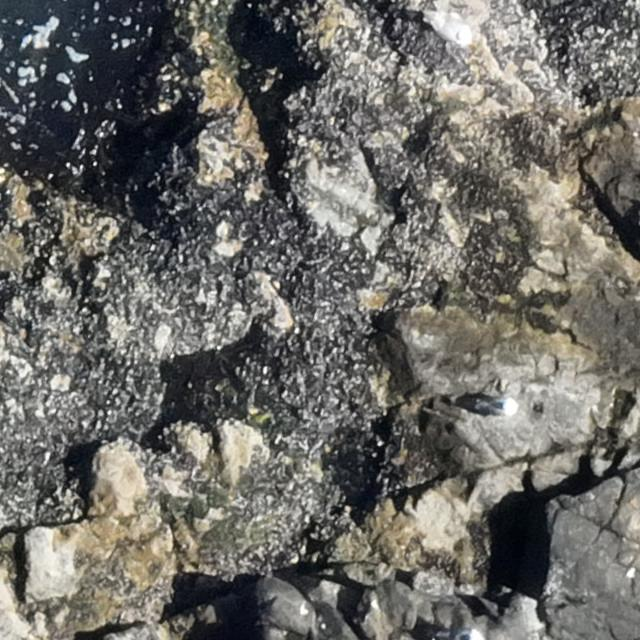umineko: (422, 10, 472, 44), (477, 398, 517, 418)
